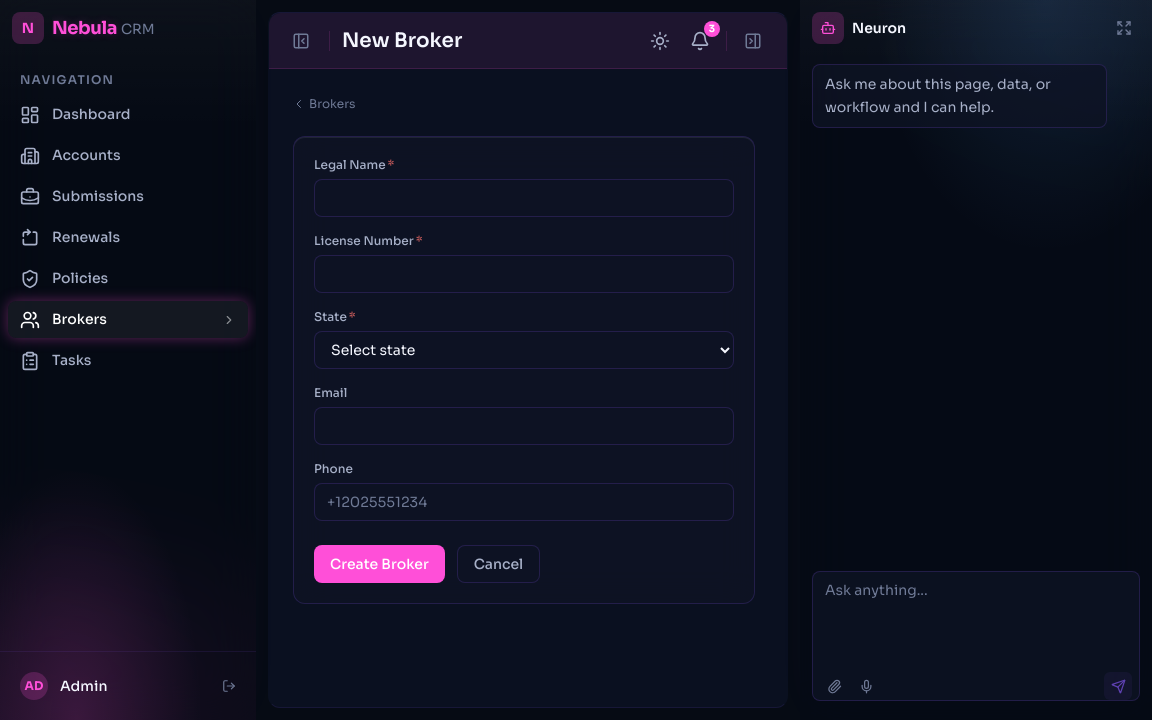
Test: CreateBrokerPage integration › renders duplicate-license and generic server errors honestly
The image size is (1152, 720).
Type "North Shore Wholesale" into the field labelled "Legal Name*".
click(524, 198); type("North Shore Wholesale")  # box [314,179,734,217]
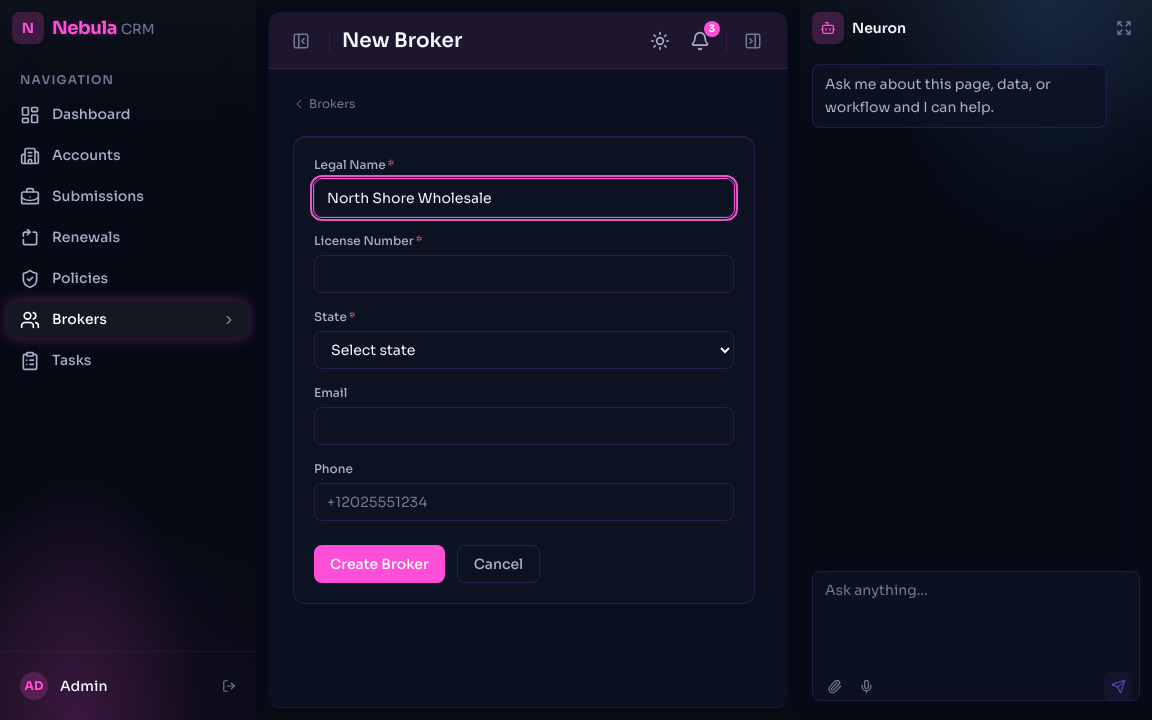
Type "CA-778899" into the field labelled "License Number*".
click(524, 274); type("CA-778899")  # box [314,255,734,293]
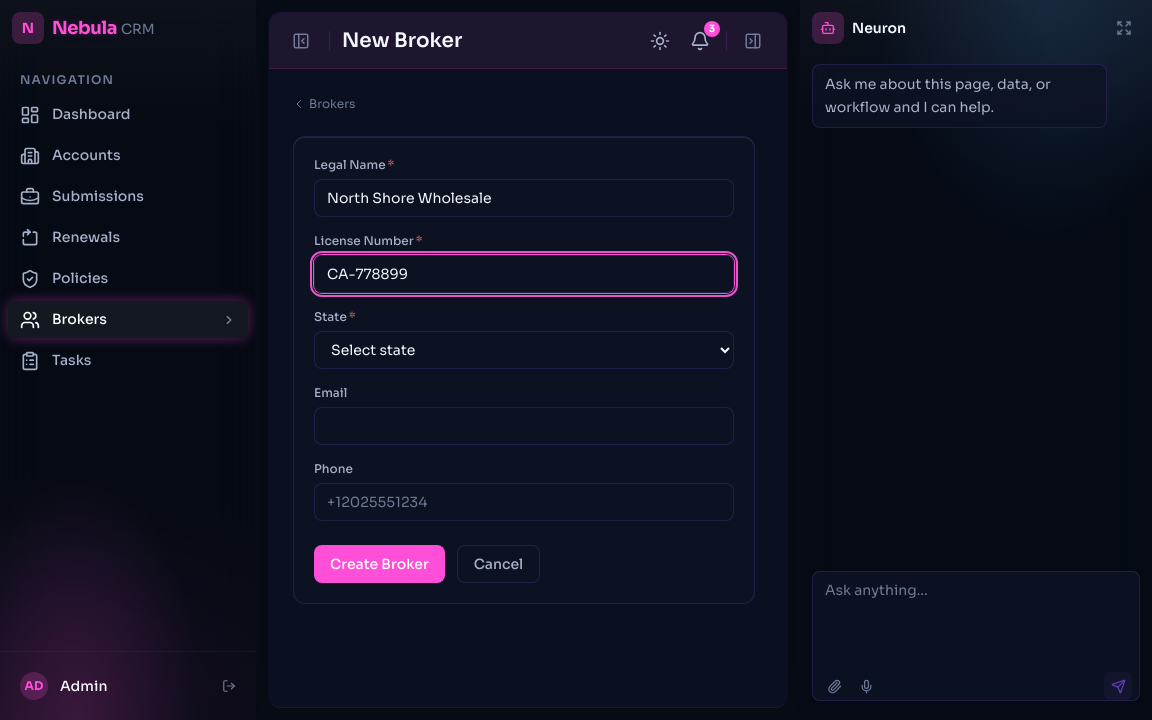
Select "CA" in the dropdown labelled "State*" at (524, 350), box [314,331,734,369]
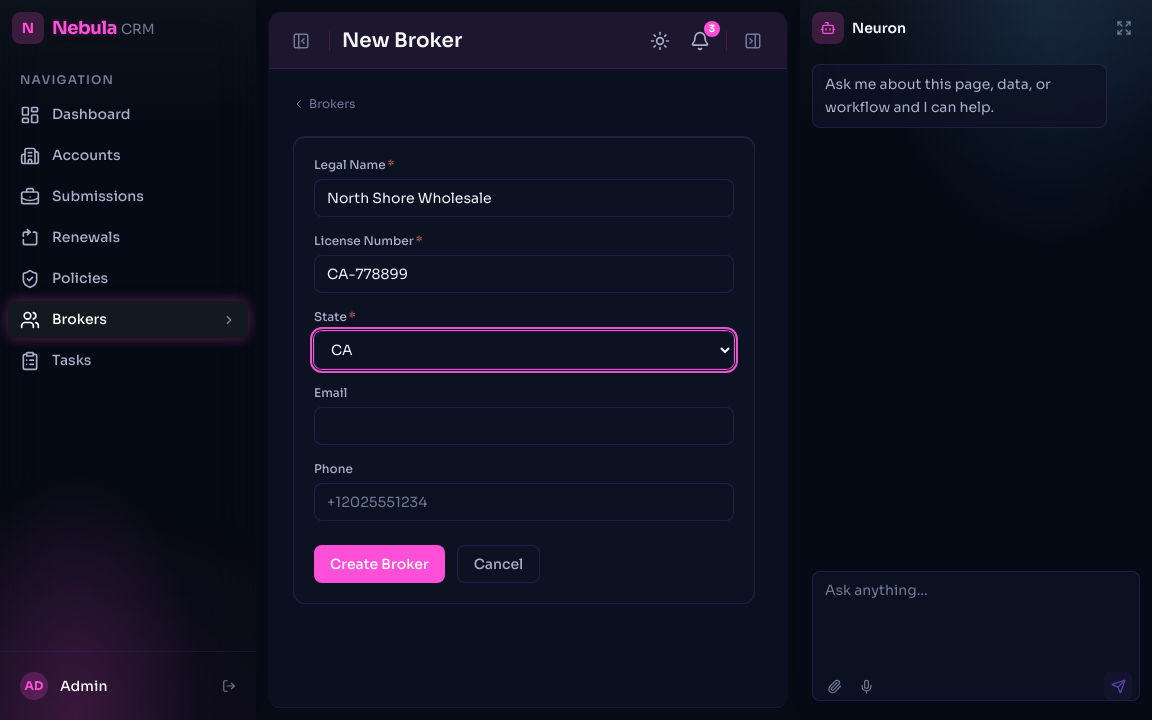
Click the button "Create Broker".
click(379, 564)  # box [314,545,445,583]
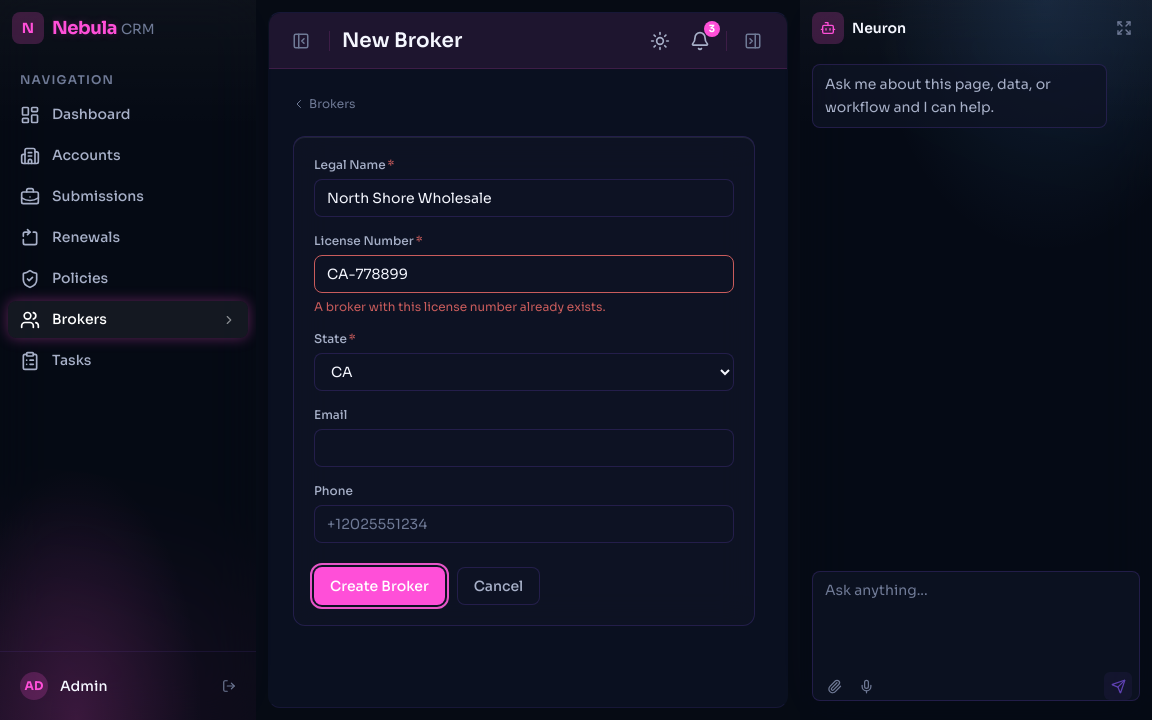
Result: the text "A broker with this license number already exists." is shown at [314,299,606,314]
Replace the text in the field labelled "License Number*" with "CA-778800" at (524, 274), box [314,255,734,293]
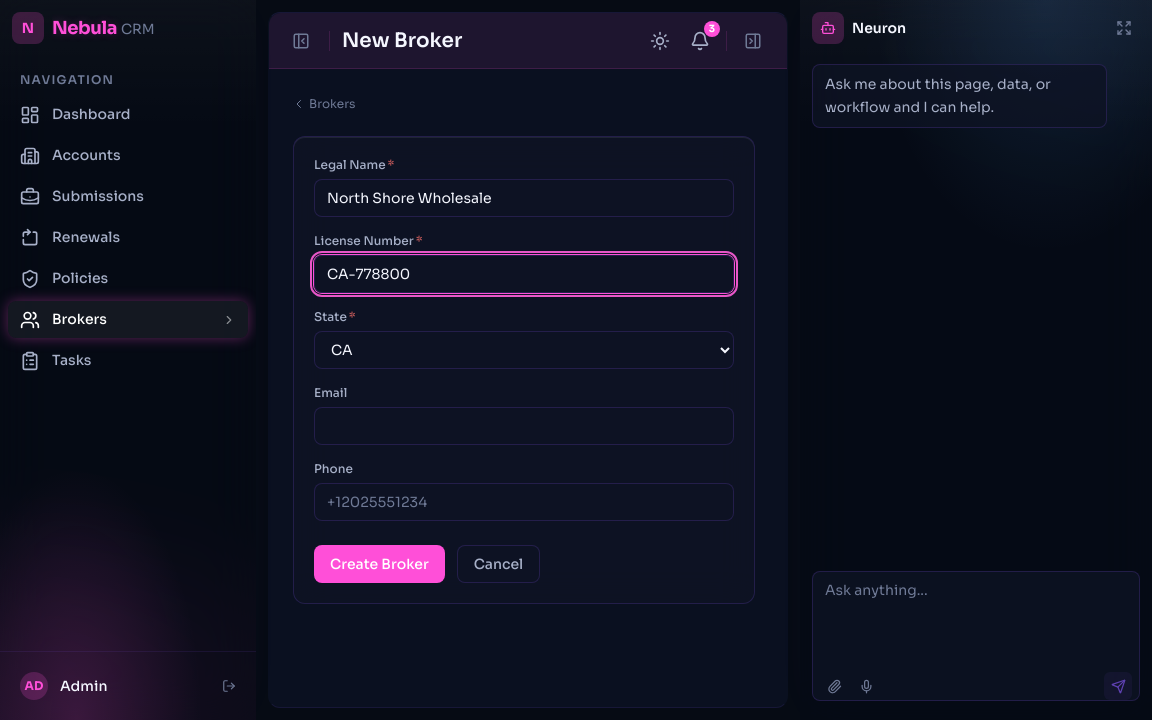
Click the button "Create Broker".
click(379, 564)  # box [314,545,445,583]
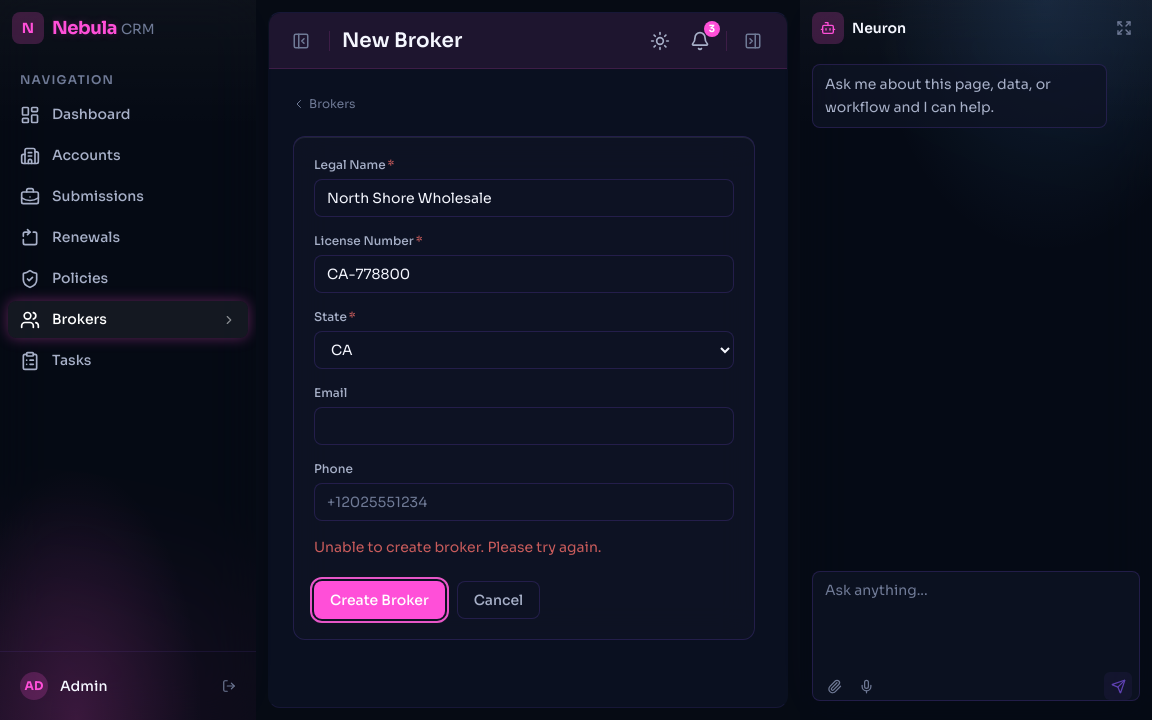
Result: the text "Unable to create broker. Please try again." is shown at [314,538,602,556]
